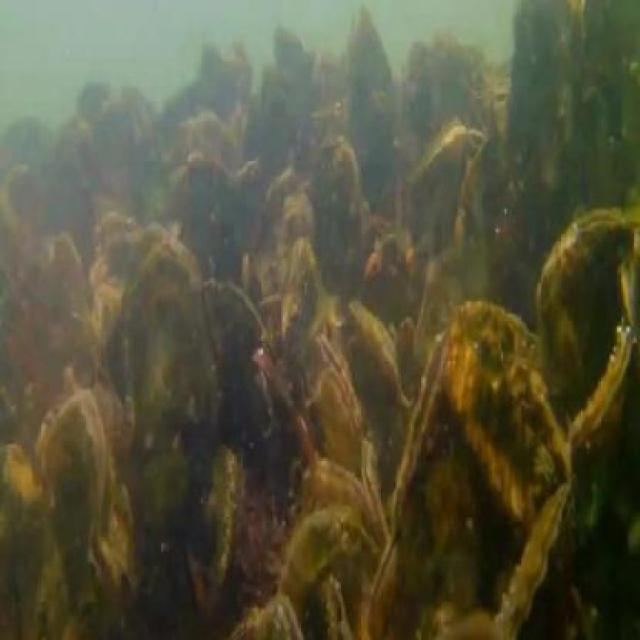Oyster-Closed: (121, 241, 215, 538), (39, 394, 109, 570), (399, 324, 450, 540), (293, 461, 382, 536), (417, 124, 485, 205), (316, 363, 363, 479), (366, 529, 408, 640), (235, 587, 302, 639), (308, 575, 354, 640), (314, 335, 351, 398)
Oyster-Indeterminate: (444, 306, 572, 522), (538, 206, 637, 406), (499, 487, 572, 640), (566, 324, 630, 479), (183, 426, 238, 605), (203, 280, 269, 420), (344, 293, 409, 415), (279, 527, 368, 606), (348, 11, 395, 129), (284, 241, 319, 367)
